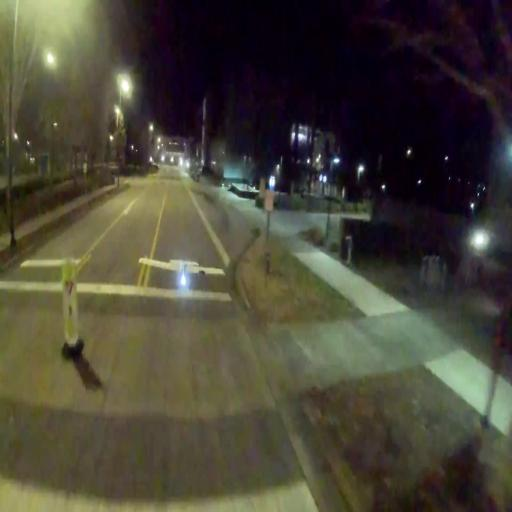uav: (137, 254, 228, 292)
